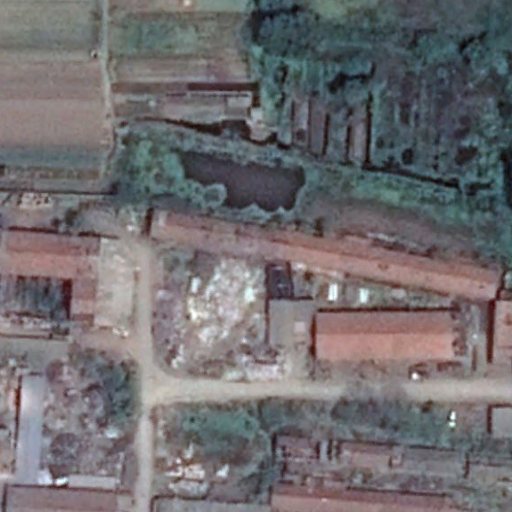msw: (158, 249, 286, 383), (41, 348, 137, 487), (177, 447, 209, 497)
